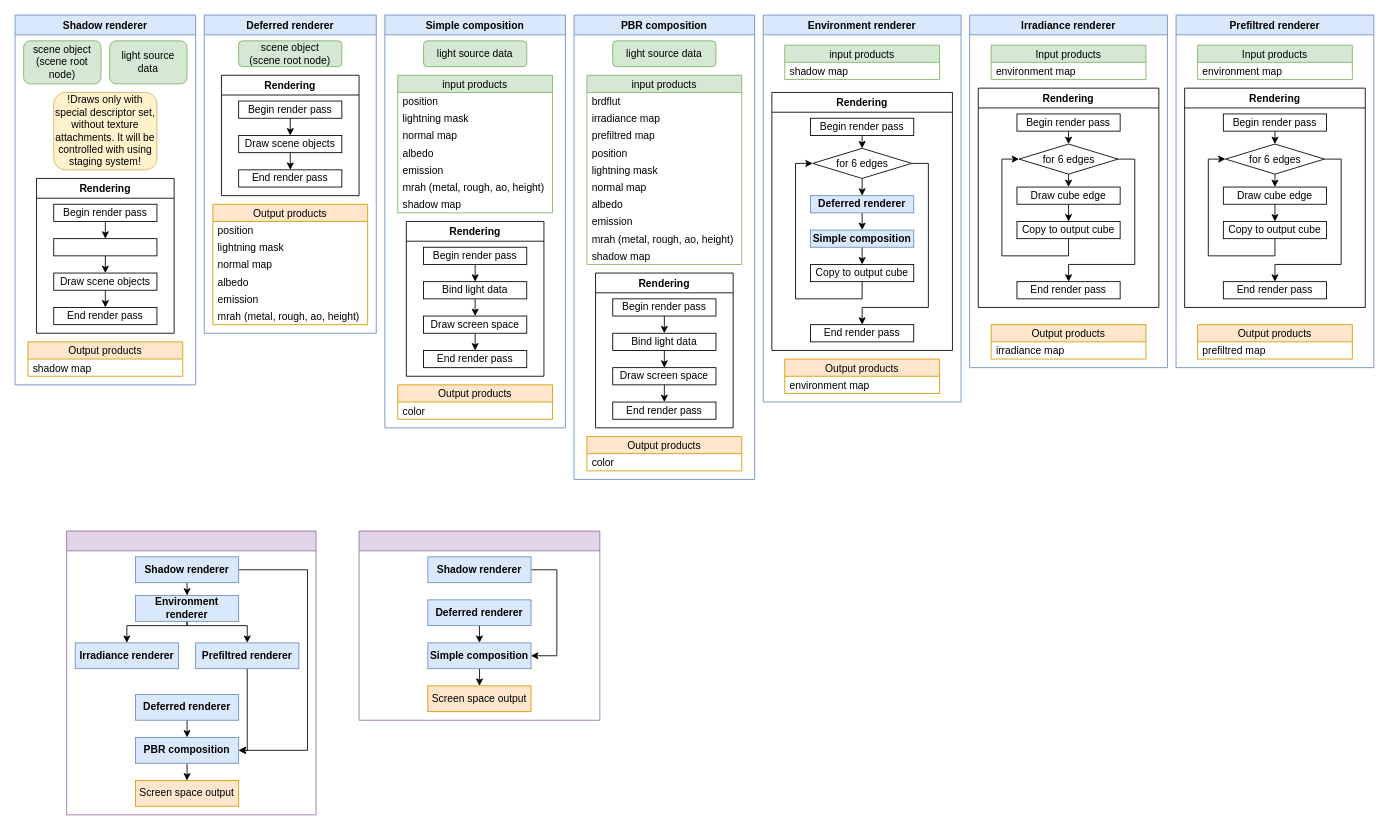
Some shapes in this 1389 by 830 pixel diagram are drawn without their labels. The shapes that lost their labels are listed below. From the top down, each one's box as (x1, y1, x2, y2) in pixels, then its label:
(53, 238, 157, 256): Bind shadow desc
(358, 530, 600, 720): Simple diffuse pipeline
(66, 530, 316, 815): PBR + Realtime reflections pipeline
